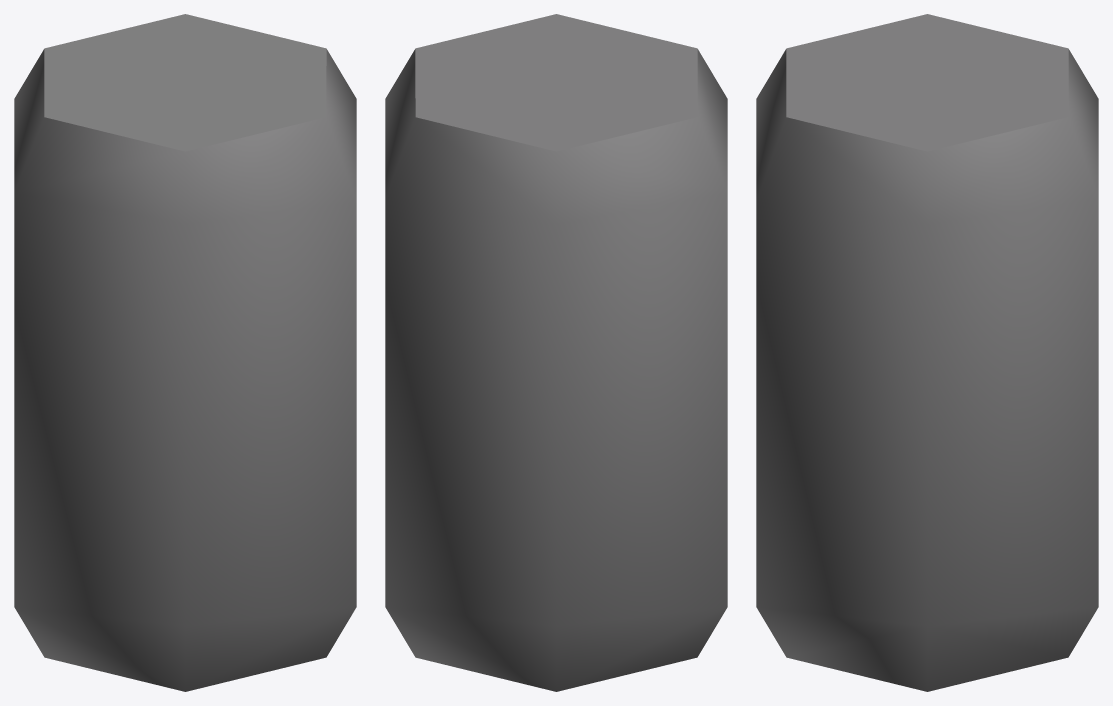
File: SM_Prop_Soda_02.obj
3 renders of one model, left to right at view 1: azimuth 30°, elevation 25°; view 2: azimuth 150°, elevation 25°; view 3: azimuth 270°, elevation 25°, orthographic.
Visible parts, largest first — view 1: SM_Prop_Soda_02_Mat_PolygonCity_Texture_01_A; view 2: SM_Prop_Soda_02_Mat_PolygonCity_Texture_01_A; view 3: SM_Prop_Soda_02_Mat_PolygonCity_Texture_01_A.
Boxes of the visible parts, box(x1,y1,x2,y2) form: SM_Prop_Soda_02_Mat_PolygonCity_Texture_01_A: box(14, 14, 356, 691); SM_Prop_Soda_02_Mat_PolygonCity_Texture_01_A: box(385, 14, 727, 691); SM_Prop_Soda_02_Mat_PolygonCity_Texture_01_A: box(756, 14, 1098, 691).
Size of the model in its own units: 0.1524 by 0.2298 by 0.132.
Materials: 1 (1 with a texture image).
